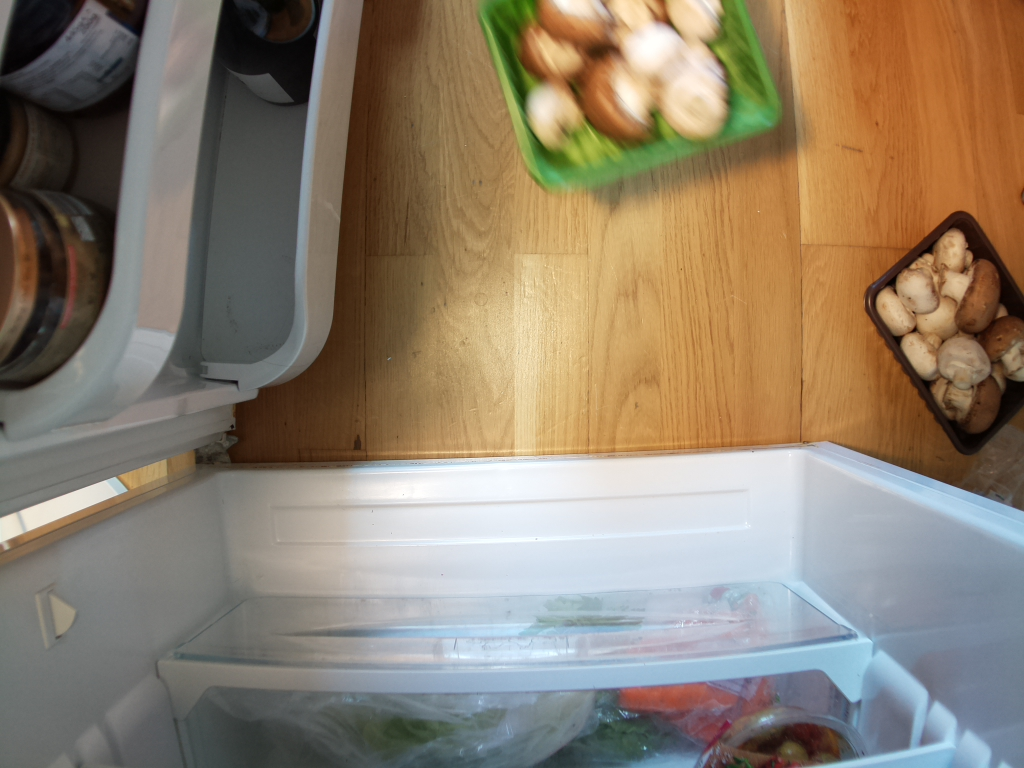mushrooms: (462, 1, 787, 190), (857, 216, 1024, 437)
